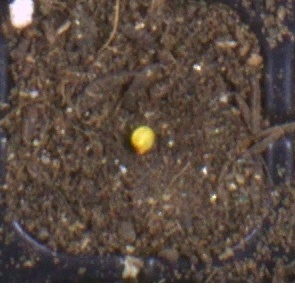chilli seed: (130, 126, 155, 154)
